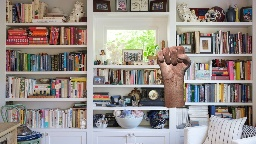Pugno: (154, 44, 192, 81)
